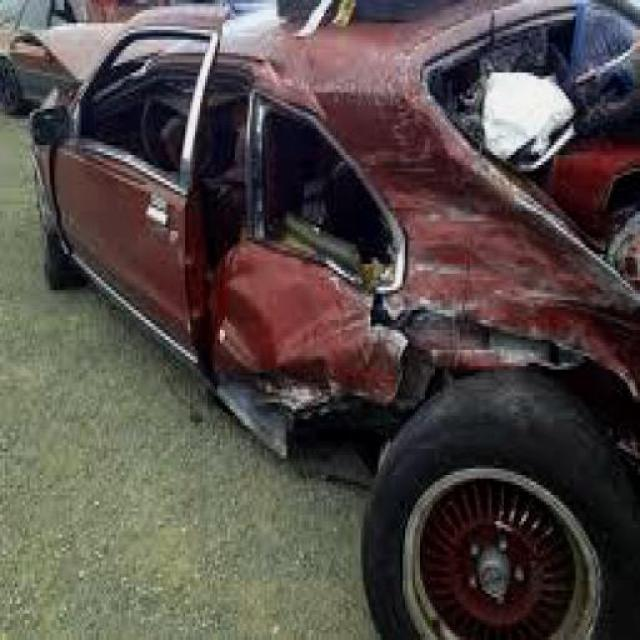Car-Damage: (217, 9, 639, 440)
